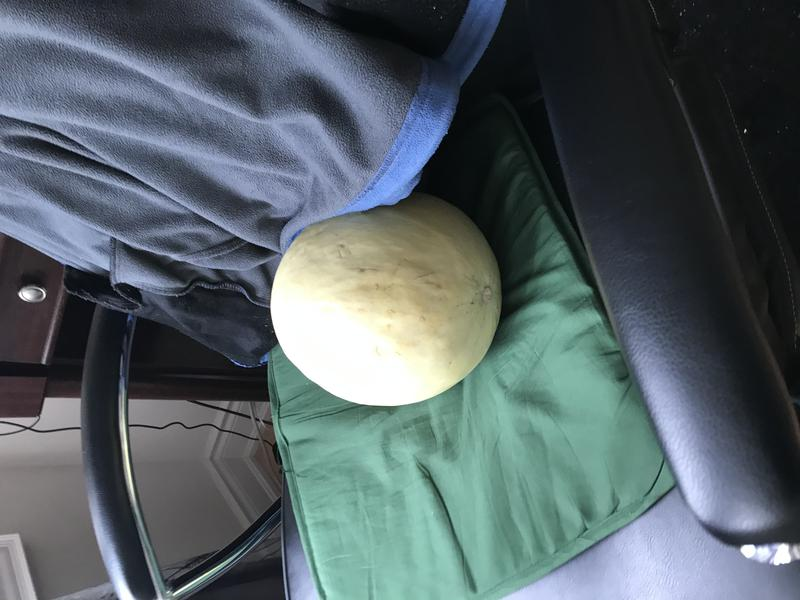honeydew: (251, 180, 518, 415)
